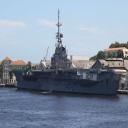Portanaves: (13, 4, 124, 98)
